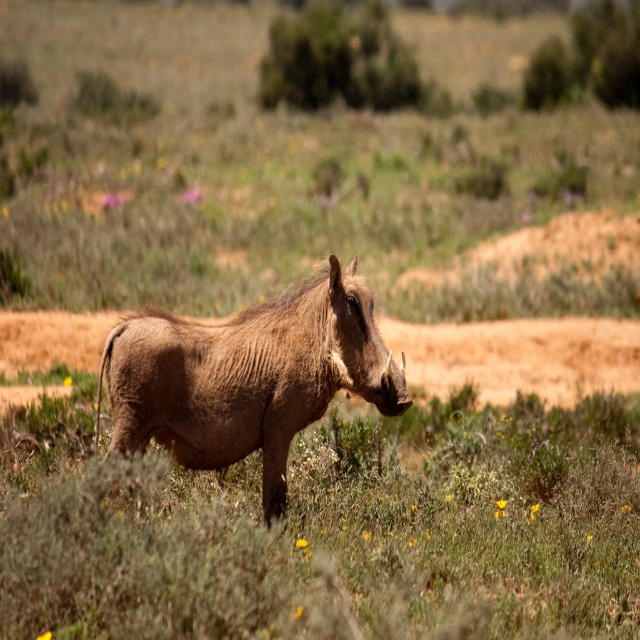Pig: (94, 249, 413, 534)
